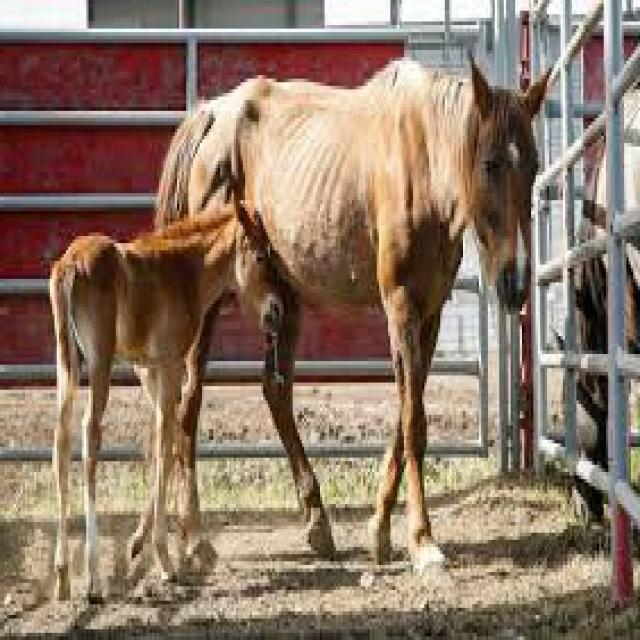horse: (159, 54, 549, 568), (50, 200, 286, 597)
